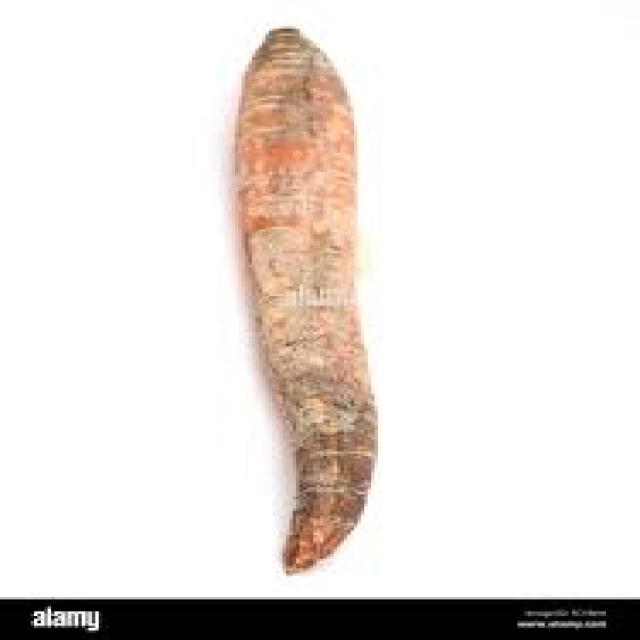Stale_Carrot: (244, 41, 384, 574)
